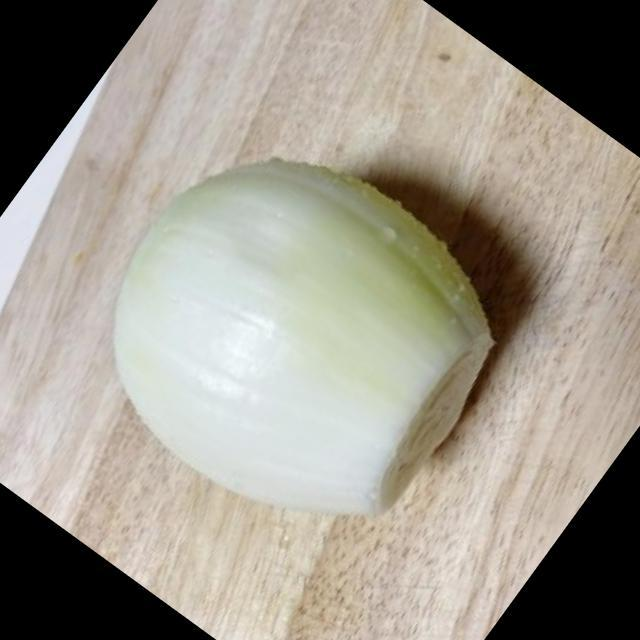Onion: (114, 166, 490, 515)
